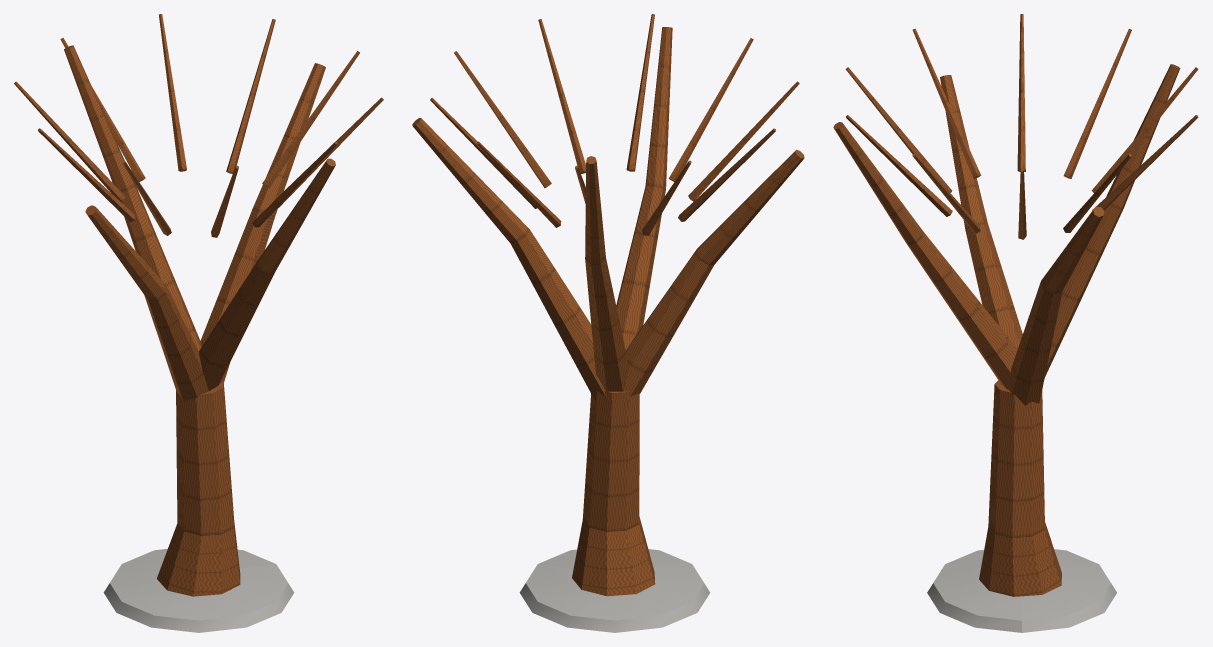
File: japanese-school-and-city-street-cherry-tree-bare-b1e462cf__30079.glb
The picture shows the model from 3 angles, left to right: view 1: azimuth 30°, elevation 25°; view 2: azimuth 150°, elevation 25°; view 3: azimuth 270°, elevation 25°; orthographic projection.
Visible parts, largest first — view 1: cherry-tree-bare; view 2: cherry-tree-bare; view 3: cherry-tree-bare.
Part boxes in pixels (left/top/right/bottom): cherry-tree-bare: left=14, top=14, right=383, bottom=632; cherry-tree-bare: left=412, top=14, right=804, bottom=632; cherry-tree-bare: left=833, top=14, right=1198, bottom=632.
Bounding box in the file's own units: 2.44 × 3.64 × 2.38.
2 materials, 2 textured.
